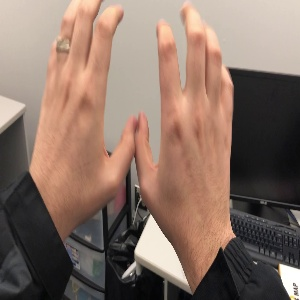hand: (32, 1, 138, 198), (138, 2, 233, 219)
